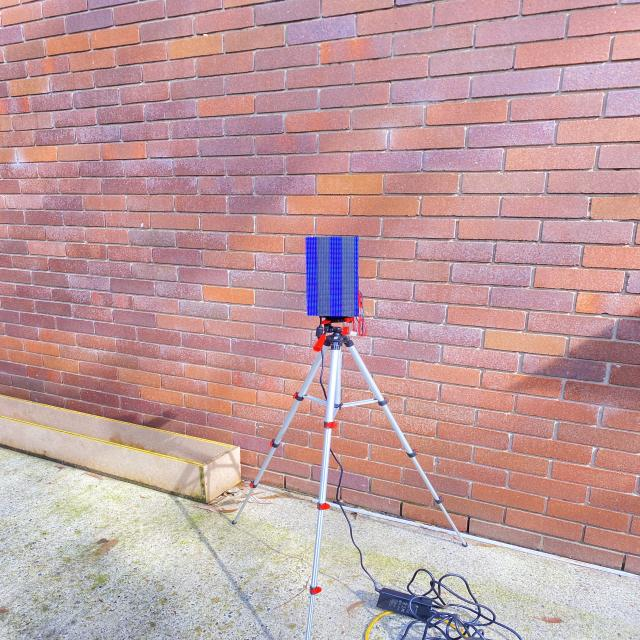matrix: (298, 232, 362, 322)
